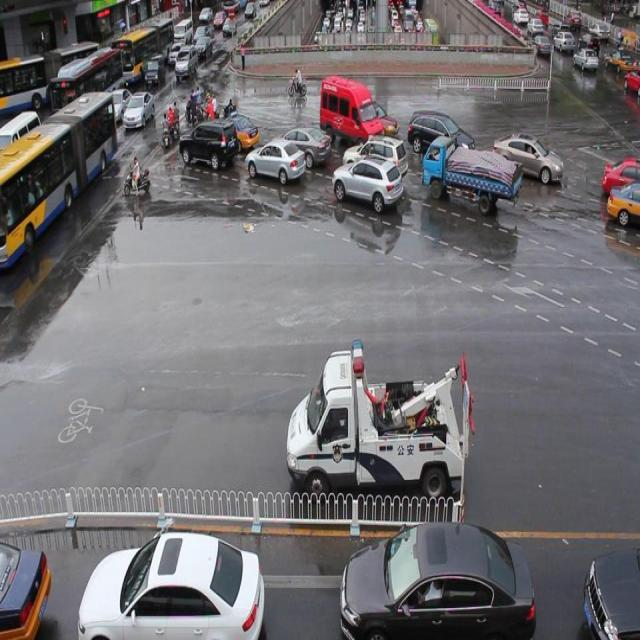BigCar: (0, 65, 115, 314)
car: (292, 353, 479, 504), (324, 539, 540, 640), (78, 533, 274, 640), (314, 62, 404, 158), (430, 132, 514, 226), (488, 111, 568, 197), (332, 158, 396, 234), (242, 146, 298, 210), (285, 114, 330, 181), (186, 117, 229, 185), (122, 79, 154, 139), (175, 43, 208, 94), (573, 42, 599, 88), (530, 28, 554, 74)
